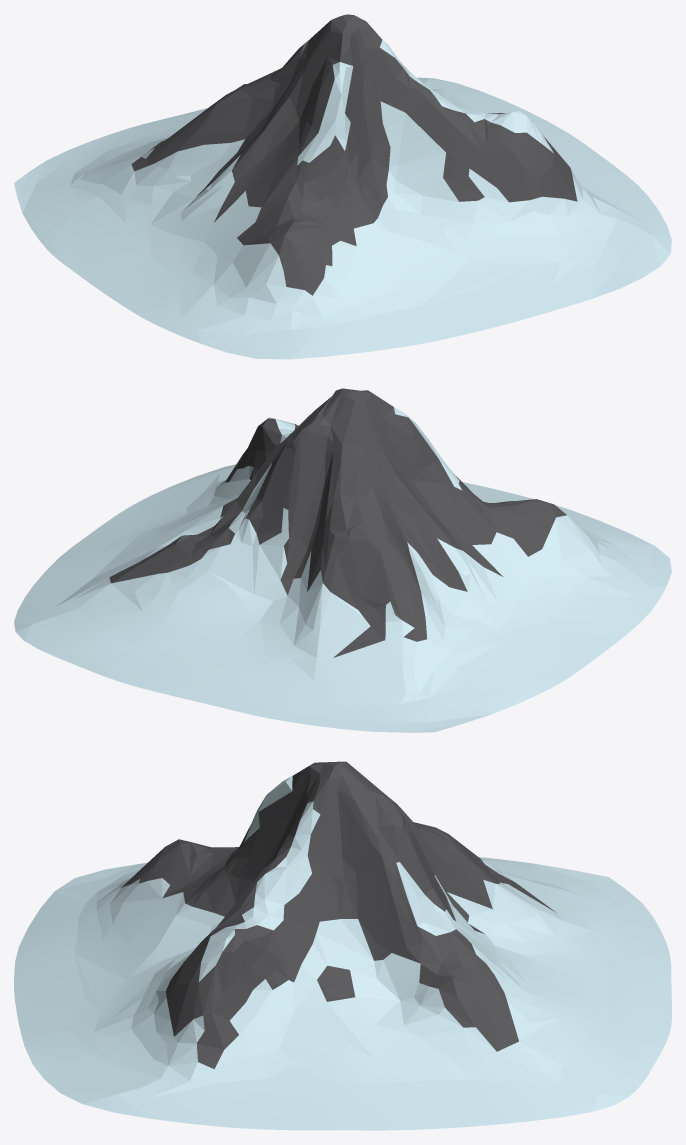
The model's file is Motaña_Nieve_02.glb.
3 renders of one model, top to bottom at view 1: azimuth 30°, elevation 25°; view 2: azimuth 150°, elevation 25°; view 3: azimuth 270°, elevation 25°, orthographic. The views are drawn at different scales.
Visible parts, largest first — view 1: SM_Env_Mountains_03_1; view 2: SM_Env_Mountains_03_1; view 3: SM_Env_Mountains_03_1.
Boxes of the visible parts, bbox=[...] form: SM_Env_Mountains_03_1: bbox=[14, 14, 671, 359]; SM_Env_Mountains_03_1: bbox=[14, 388, 671, 732]; SM_Env_Mountains_03_1: bbox=[14, 761, 671, 1130].
Size of the model in its own units: 28.32 by 10.83 by 28.3.
Materials: 1 (1 with a texture image).
